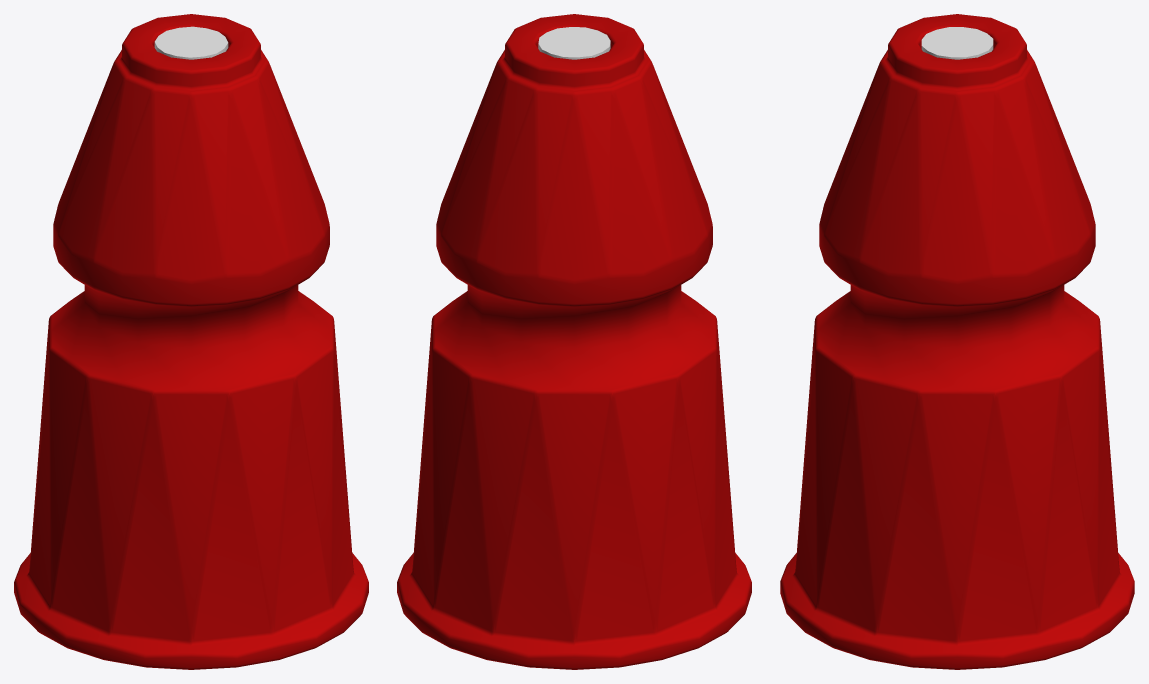
File: Model - Plastic - Faceted - 1.1875in.fbx
3 renders of one model, left to right at view 1: azimuth 30°, elevation 25°; view 2: azimuth 150°, elevation 25°; view 3: azimuth 270°, elevation 25°, orthographic.
Parts seen in each view (by area): view 1: Post - Plastic - Faceted - 1 3/16"; view 2: Post - Plastic - Faceted - 1 3/16"; view 3: Post - Plastic - Faceted - 1 3/16".
Part boxes in pixels (x1,y1,x2,y2): Post - Plastic - Faceted - 1 3/16": [14, 14, 368, 669]; Post - Plastic - Faceted - 1 3/16": [397, 14, 751, 669]; Post - Plastic - Faceted - 1 3/16": [780, 14, 1134, 669].
Size of the model in its own units: 1.77 by 3.06 by 1.77.
